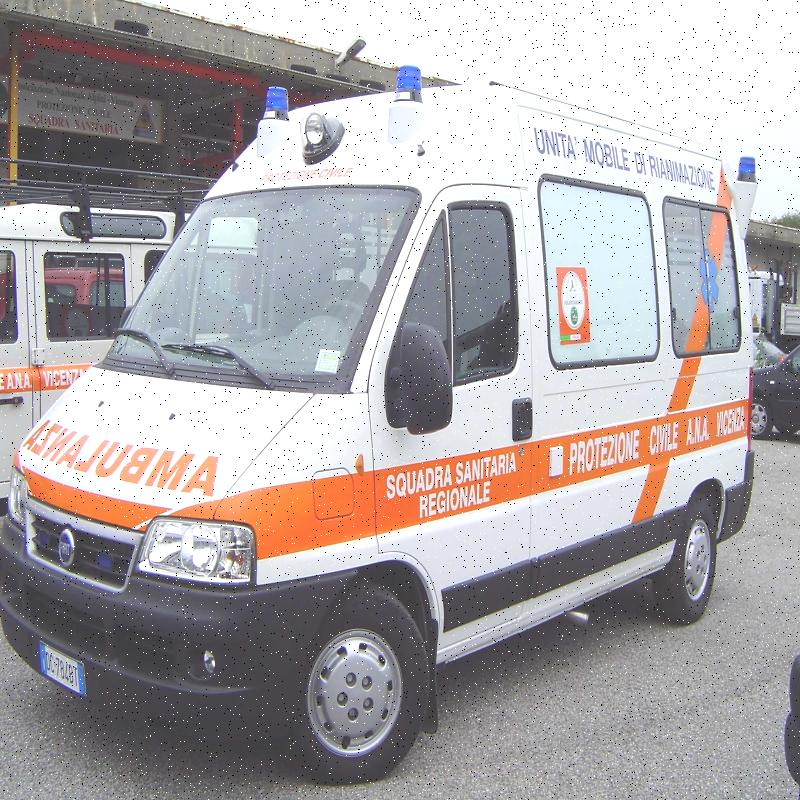AmbulanceSiren: (390, 49, 435, 133), (737, 148, 777, 221), (266, 77, 305, 133)
